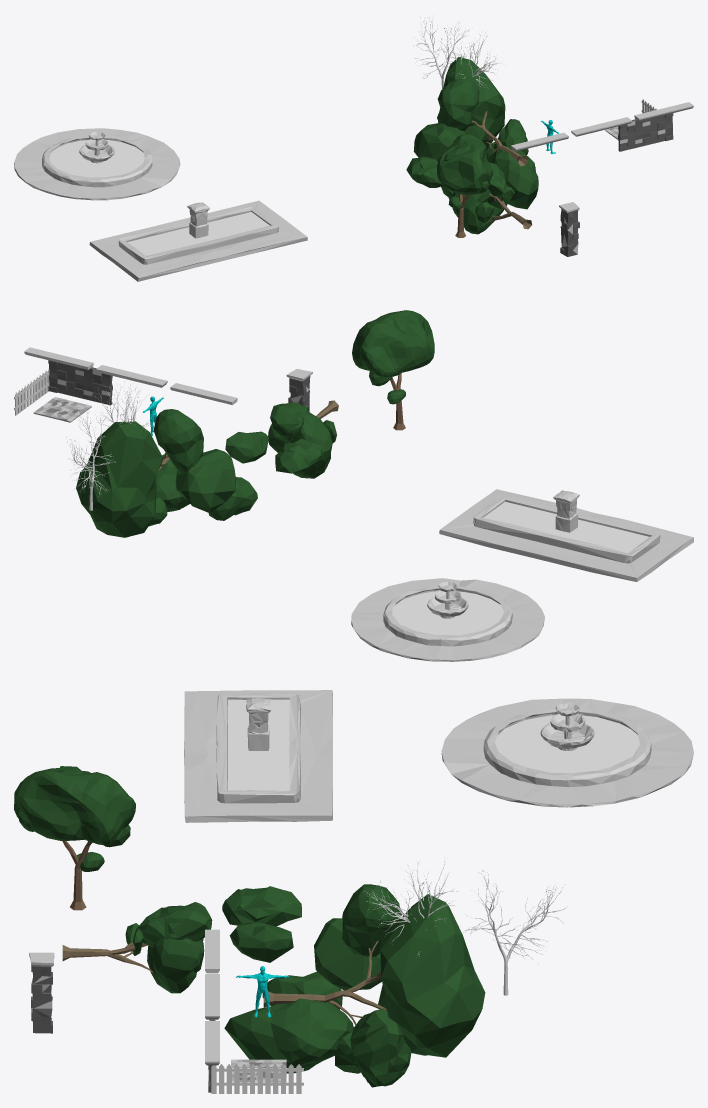
Rendered from Pembereley Outdoor Props.fbx.
3 views of the same model, one above another, from view 1: azimuth 30°, elevation 25°; view 2: azimuth 150°, elevation 25°; view 3: azimuth 270°, elevation 25° (orthographic). The views are drawn at different scales.
Parts seen in each view (by area): view 1: Fountain 1, Fountain 2, Low Poly Tree 3, Low Poly Tree, Fountain Water 1, Fountain Water 2, Low Poly Tree 2, Bush 5, Garden Wall, Bush 2, Pillar 2, Bush 4 (+6 smaller); view 2: Fountain 2, Fountain 1, Low Poly Tree 3, Low Poly Tree, Fountain Water 1, Fountain Water 2, Bush 2, Garden Wall, Low Poly Tree 2, Bush 4, Bush 1, Dead Tree (+10 smaller); view 3: Low Poly Tree 3, Fountain 1, Fountain 2, Low Poly Tree, Bush 5, Fountain Water 1, Fountain Water 2, Low Poly Tree 2, Bush 2, Bush 4, Bush 3, Fence (+9 smaller).
Boxes of the visible parts, <box> form: Fountain 1: <box>14,128,180,200</box>; Fountain 2: <box>89,200,307,281</box>; Low Poly Tree 3: <box>437,57,528,166</box>; Low Poly Tree: <box>437,134,493,237</box>; Fountain Water 1: <box>49,139,144,177</box>; Fountain Water 2: <box>127,212,269,255</box>; Low Poly Tree 2: <box>452,184,531,234</box>; Bush 5: <box>487,148,538,209</box>; Garden Wall: <box>618,113,673,151</box>; Bush 2: <box>413,123,465,161</box>; Pillar 2: <box>559,202,579,256</box>; Bush 4: <box>406,156,442,187</box>; Fountain 2: <box>439,489,693,581</box>; Fountain 1: <box>351,578,544,661</box>; Low Poly Tree 3: <box>76,409,203,537</box>; Low Poly Tree: <box>352,310,434,430</box>; Fountain Water 1: <box>392,591,503,635</box>; Fountain Water 2: <box>483,501,649,552</box>; Bush 2: <box>175,449,236,512</box>; Garden Wall: <box>48,360,112,405</box>; Low Poly Tree 2: <box>268,400,338,478</box>; Bush 4: <box>275,439,321,473</box>; Bush 1: <box>225,431,268,463</box>; Dead Tree: <box>66,408,115,510</box>; Low Poly Tree 3: <box>263,884,485,1087</box>; Fountain 1: <box>441,698,693,807</box>; Fountain 2: <box>184,690,332,822</box>; Low Poly Tree: <box>14,766,135,910</box>; Bush 5: <box>224,998,353,1073</box>; Fountain Water 1: <box>494,715,639,772</box>; Fountain Water 2: <box>228,699,289,790</box>; Low Poly Tree 2: <box>62,905,204,993</box>; Bush 2: <box>314,918,381,990</box>; Bush 4: <box>222,886,301,926</box>; Bush 3: <box>135,902,212,947</box>; Fence: <box>211,1064,303,1093</box>.
Bounding box in the file's own units: 6385 × 1533 × 4401.
